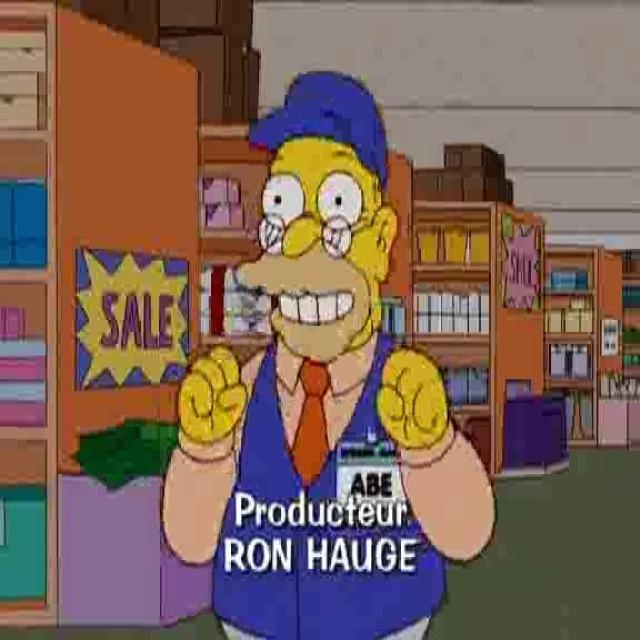Abraham Grampa Simpson: (231, 136, 402, 365)
